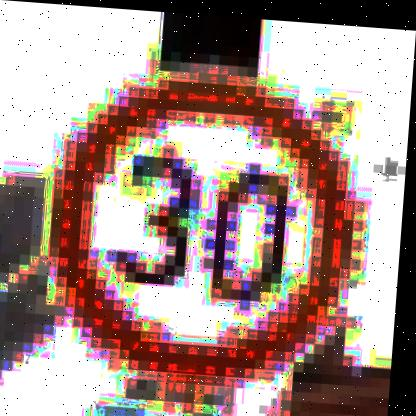Speed Limit -30-: (38, 67, 368, 385)
